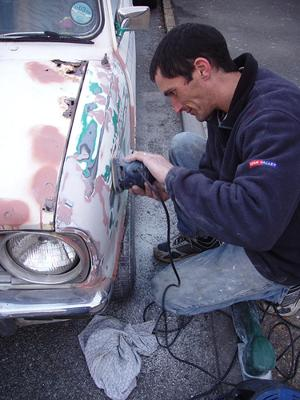person: (122, 20, 300, 320)
